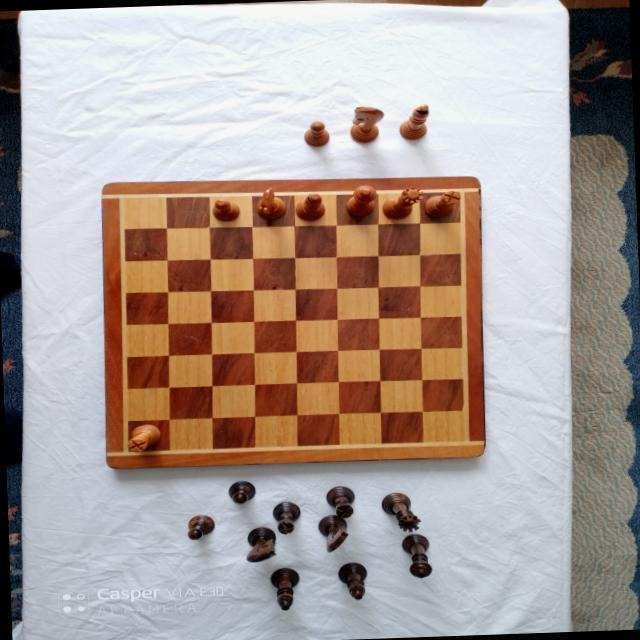black-bishop: (267, 566, 301, 610), (335, 561, 368, 599)
black-king: (399, 533, 433, 579)
black-knight: (242, 525, 278, 563), (316, 513, 348, 553)
black-pawn: (183, 513, 216, 541), (226, 479, 257, 505)
black-queen: (380, 492, 420, 532)
black-rook: (324, 485, 355, 519), (271, 501, 302, 535)
white-bishop: (396, 104, 431, 140), (294, 191, 326, 222)
white-king: (342, 185, 377, 218)
white-knight: (347, 103, 385, 144), (253, 188, 287, 220)
white-pawn: (300, 120, 331, 147), (209, 197, 240, 222)
white-queen: (380, 183, 424, 220)
white-rook: (422, 189, 461, 219), (125, 423, 161, 453)
